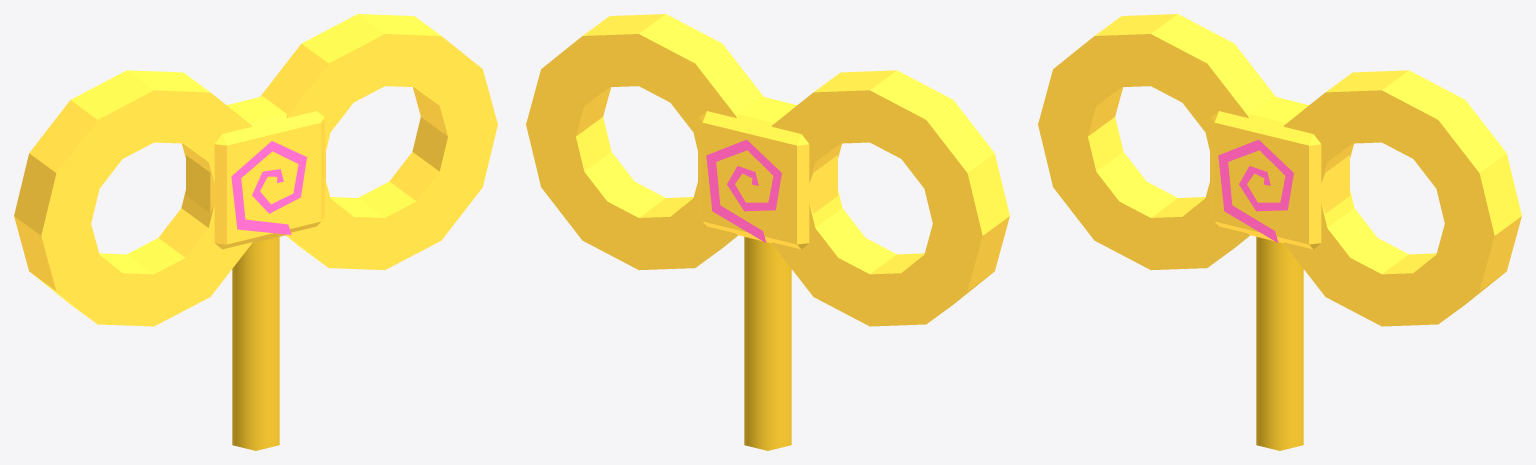
File: castle-key-back.glb
3 views of the same model, side by side, from view 1: azimuth 30°, elevation 25°; view 2: azimuth 150°, elevation 25°; view 3: azimuth 330°, elevation 25° (orthographic).
Visible parts, largest first — view 1: castle-key-back; view 2: castle-key-back; view 3: castle-key-back.
Part boxes in pixels (x1,y1,x2,y2): castle-key-back: (14, 14, 497, 450); castle-key-back: (526, 14, 1009, 450); castle-key-back: (1038, 14, 1521, 450).
Size of the model in its own units: 8.7 by 7.05 by 1.22.
